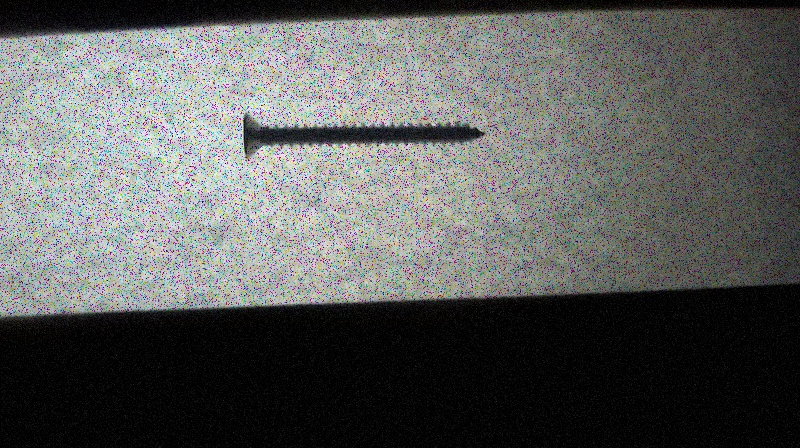S002: (239, 108, 488, 162)
